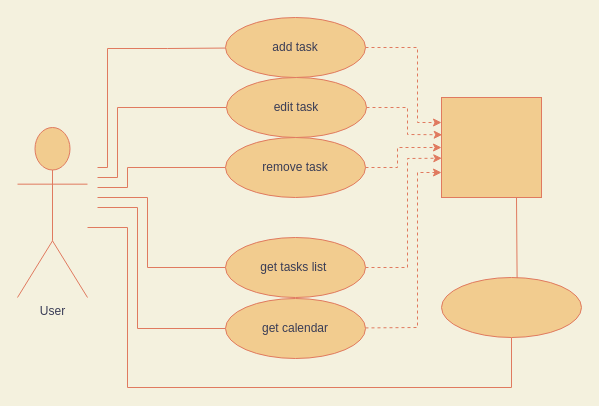
Image size: 599x406. Some labels were removed from this diagram. Here are the shapes that lost their labels. From the top down, the box of each, then its label:
(440, 96, 542, 198): Task List
(440, 276, 582, 338): notification about the future task
